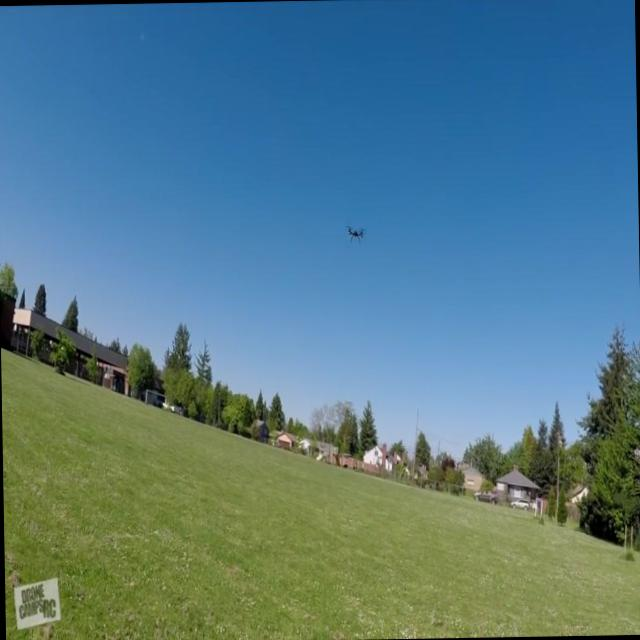drone: (345, 222, 368, 245)
